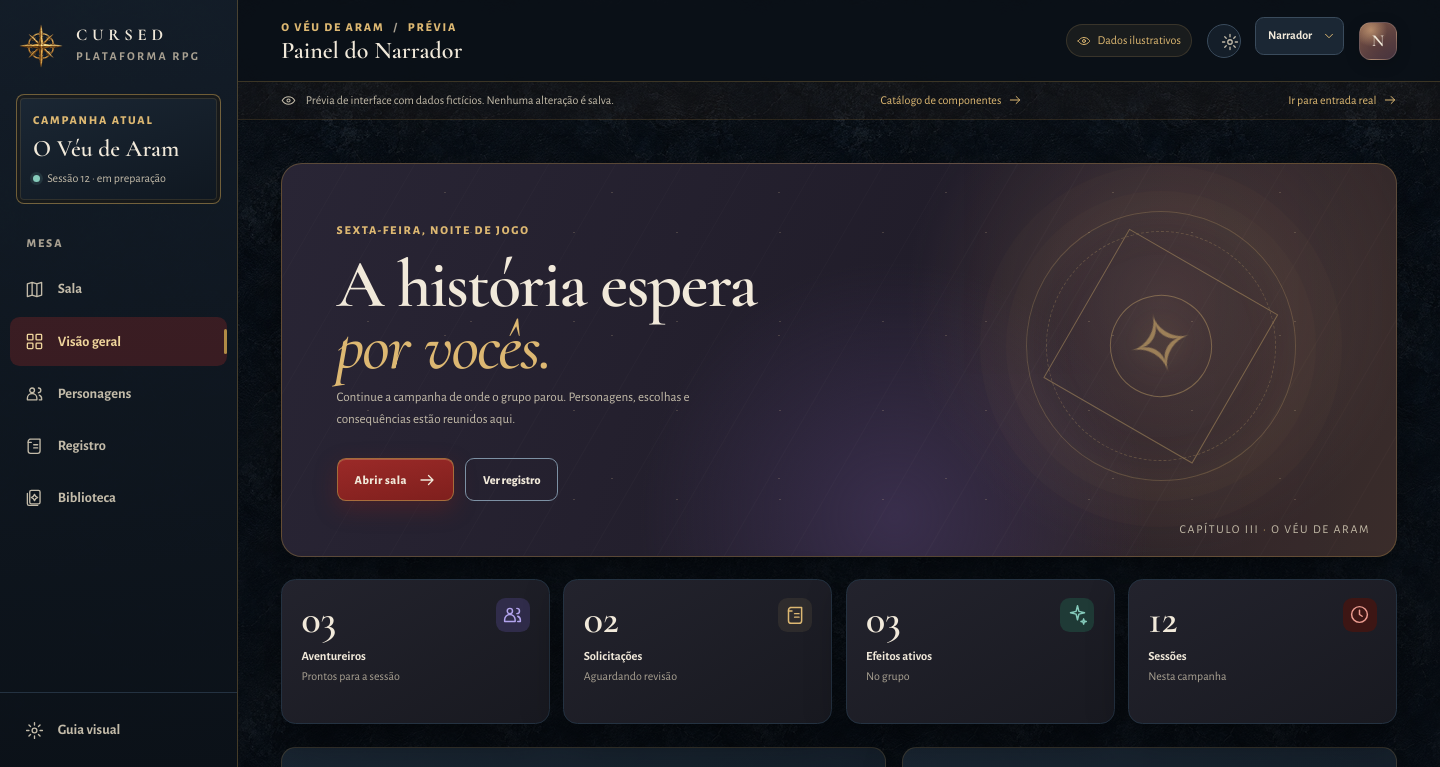
Test: prévia navegável › altera navegação e conteúdo ao alternar para jogador
Select "Jogador" in the dropdown named "Visualizar como" at (1300, 36), box [1255, 17, 1344, 55]
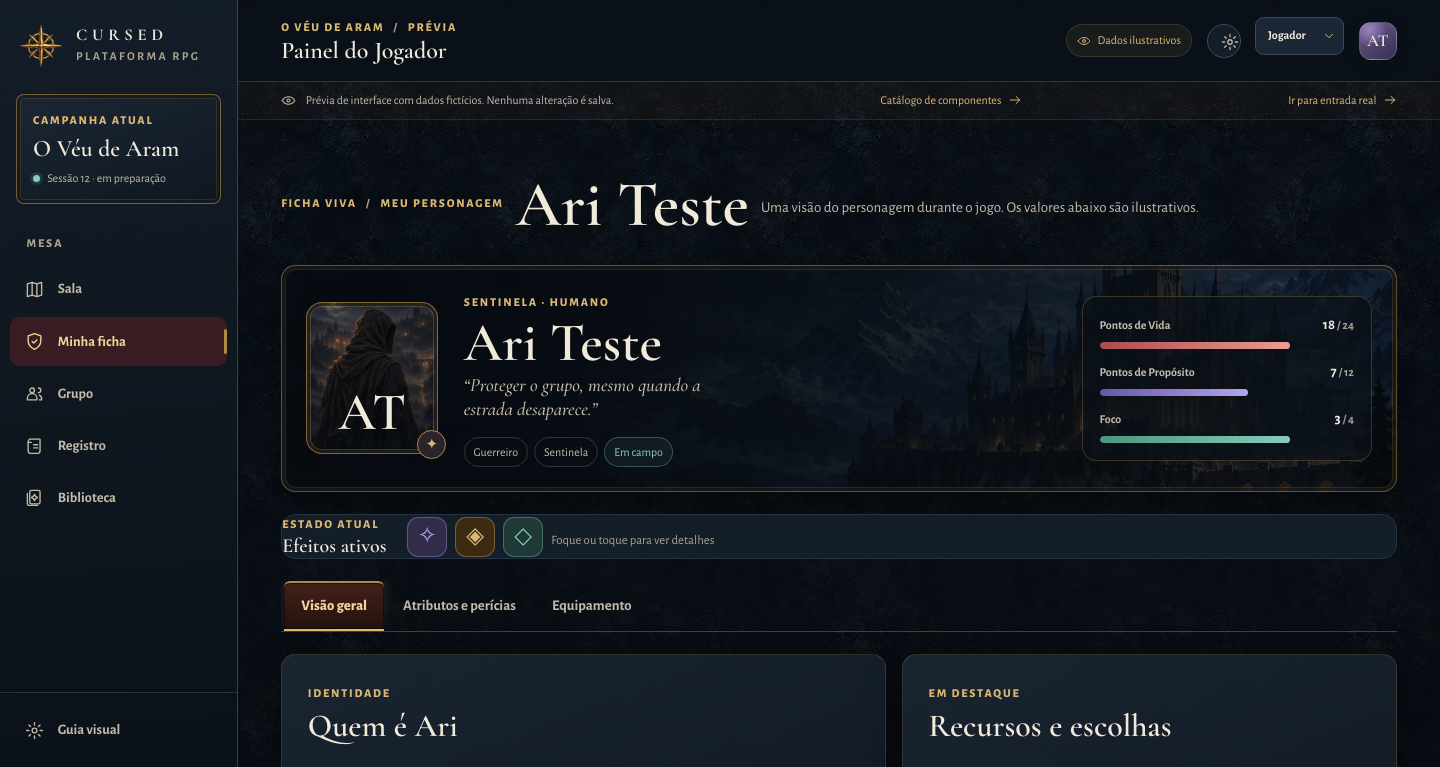
Expected: the button "Registro" is shown, [10, 422, 227, 470]
Expected: the button "Minha ficha" is shown, [10, 317, 227, 366]
Expected: the heading "Ari Teste" next to "MEU PERSONAGEM" is shown, [516, 173, 749, 237]
